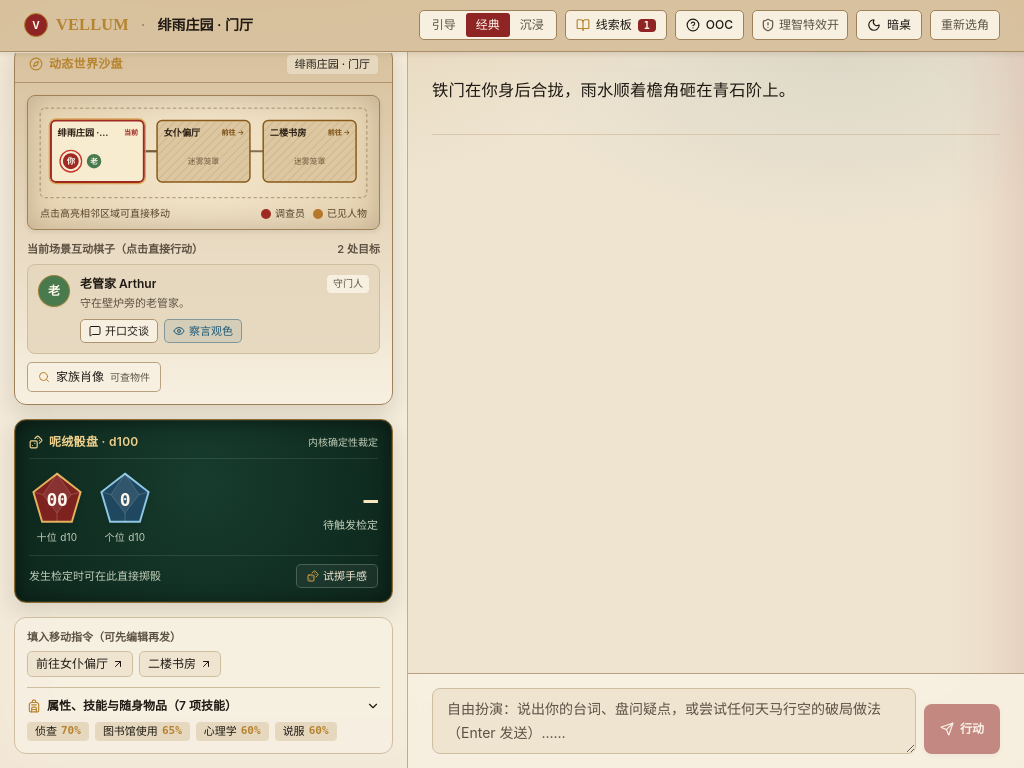
Test case: WorkspaceFlow end-to-end UI interactions › localizes present entity roles and avoids duplicating 前往 prefix when quick-filling exits
(page scrolled)
Expected: the text "守门人" is shown, [327, 276, 369, 293]
Expected: the text "可查物件" is shown, [110, 371, 150, 384]
Click the button "前往女仆偏厅": (80, 664) [27, 651, 133, 677]
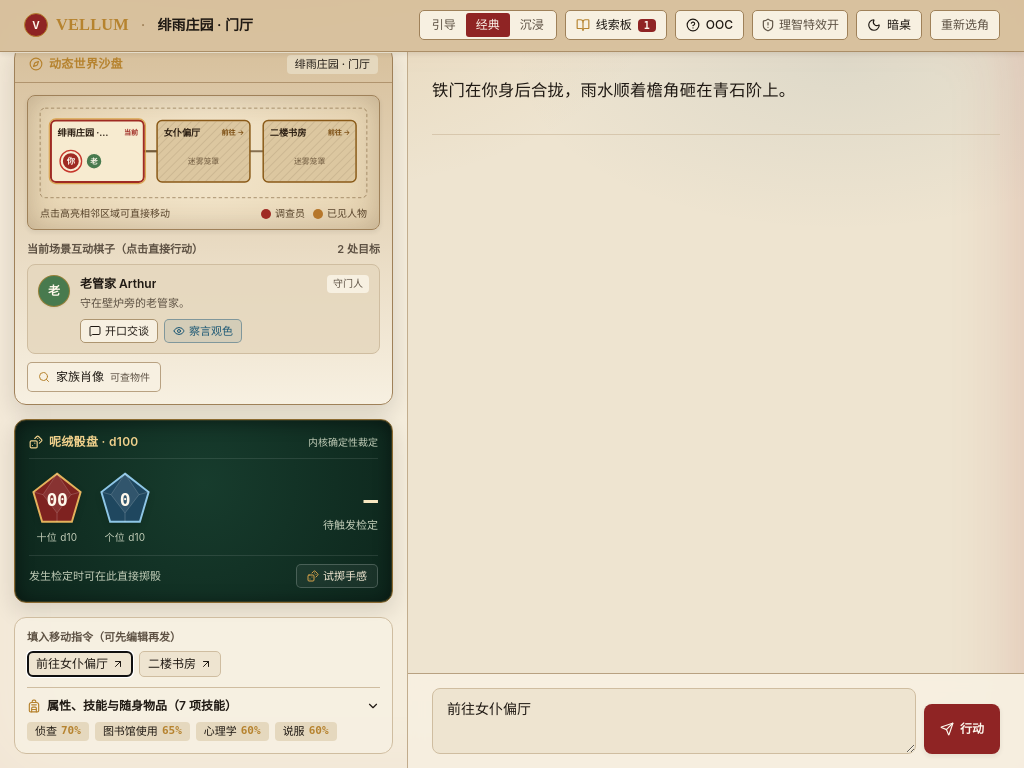
Expected: the text box named "输入你的调查行动或发言" holds "前往女仆偏厅", [432, 688, 916, 754]
Click the button "二楼书房": (180, 664) [139, 651, 221, 677]
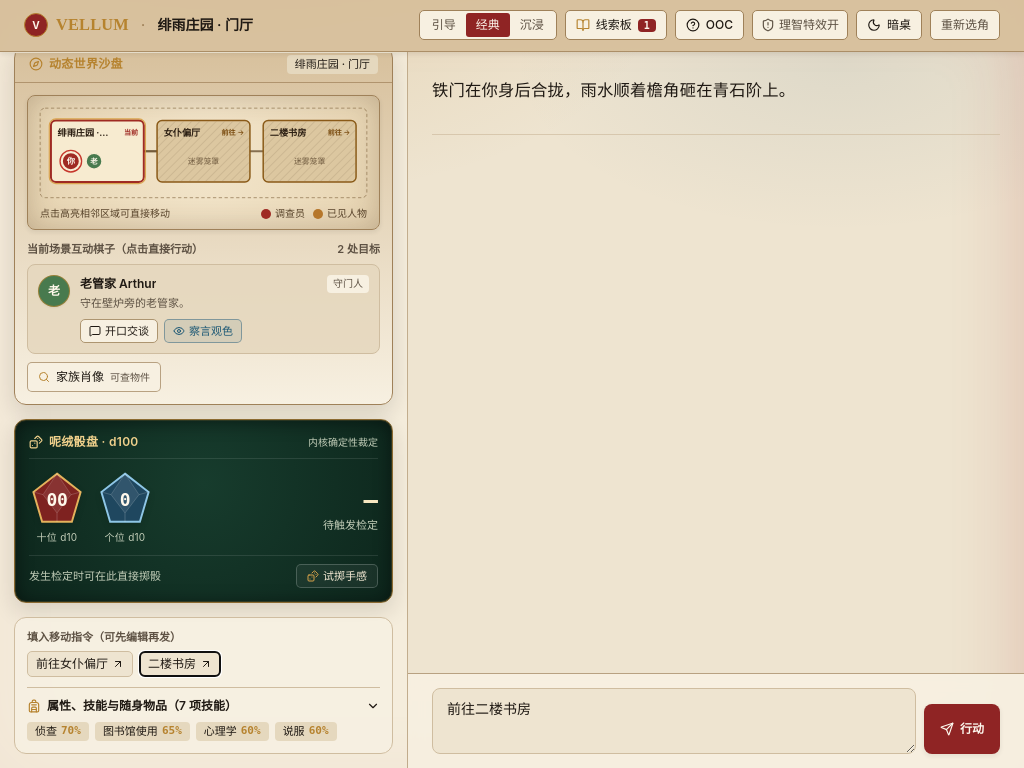
Expected: the text box named "输入你的调查行动或发言" holds "前往二楼书房", [432, 688, 916, 754]
